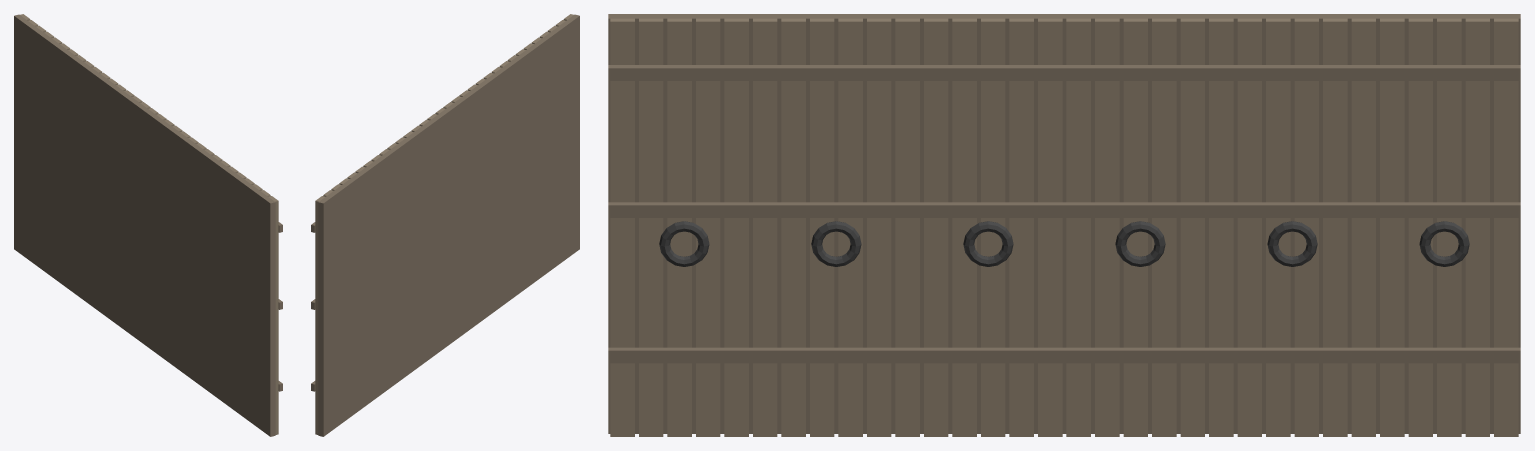
File: dm_dockfenderlong.glb
The picture shows the model from 3 angles, left to right: view 1: azimuth 30°, elevation 25°; view 2: azimuth 150°, elevation 25°; view 3: azimuth 270°, elevation 25°; orthographic projection. The views are drawn at different scales.
Visible parts, largest first — view 1: dm_dockfenderlong; view 2: dm_dockfenderlong; view 3: dm_dockfenderlong.
Part boxes in pixels (x1,y1,x2,y2): dm_dockfenderlong: (14,14,282,436); dm_dockfenderlong: (311,14,579,436); dm_dockfenderlong: (608,14,1520,436).
Size of the model in its own units: 0.76 by 9.79 by 19.49.
